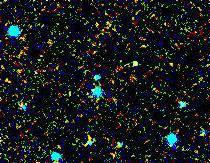star: (119, 45, 149, 75)
